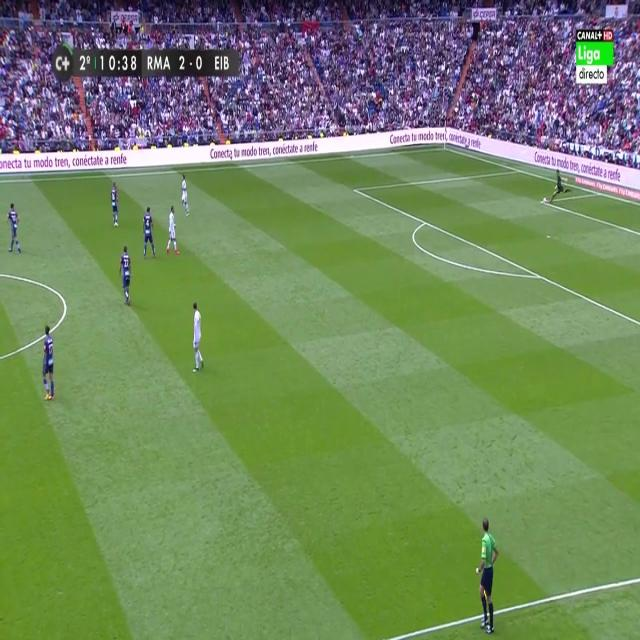Ball: (542, 194, 548, 204)
Goalkeeper: (549, 167, 572, 206)
Player: (40, 324, 59, 406), (189, 299, 206, 377), (6, 197, 24, 258), (117, 246, 134, 307), (164, 204, 181, 260), (142, 206, 158, 260), (109, 178, 122, 231), (179, 172, 194, 216)
Referee: (474, 515, 502, 637)
